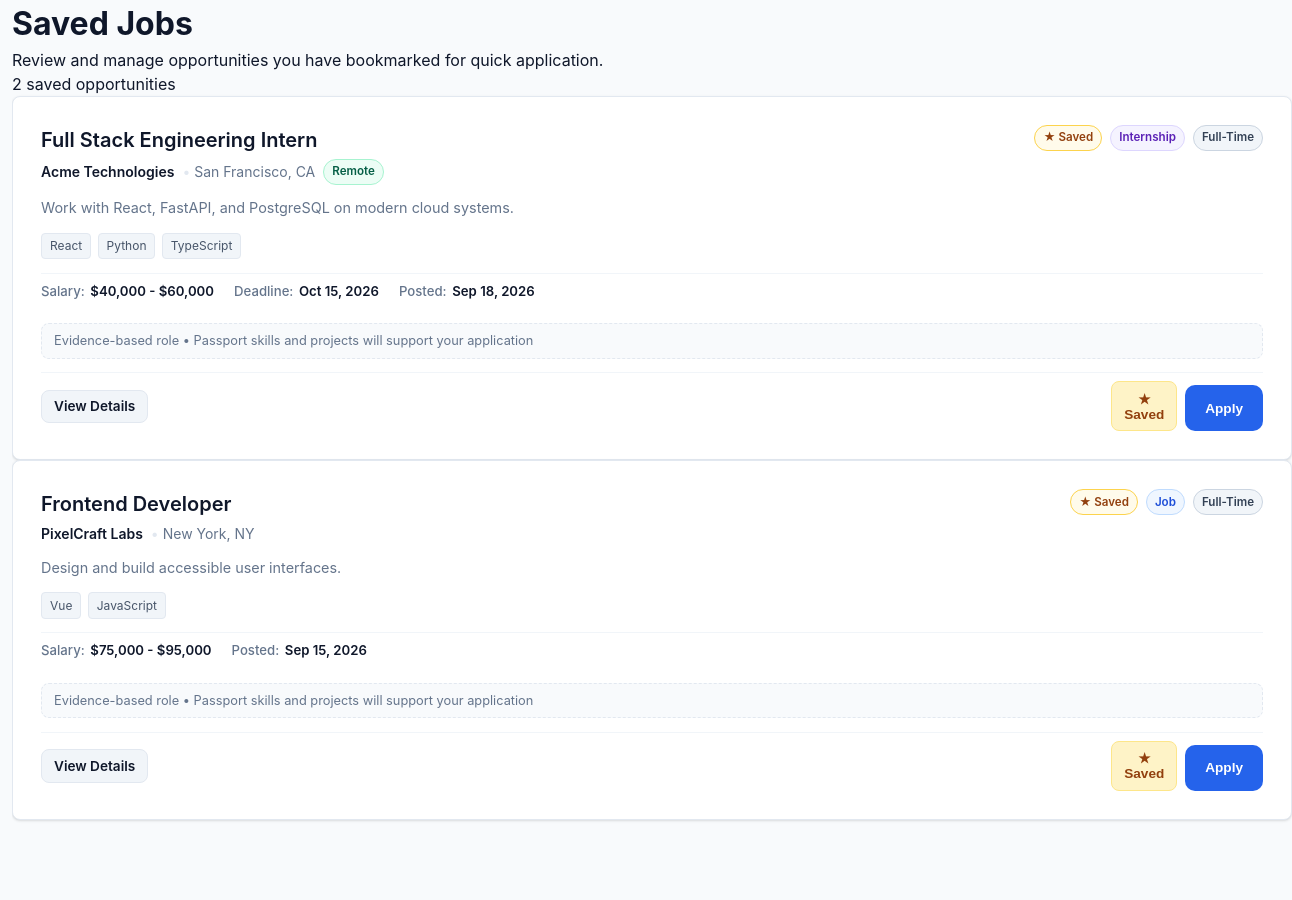
Test: SavedJobsPage (Phase 30B.2) › successfully unsaves a job, updates list and shows confirmation message
Expected: the link "Full Stack Engineering Intern" is shown, [41, 128, 318, 152]
Expected: the text with test id "saved-jobs-count" reads "2 saved opportunities", [12, 74, 176, 94]
Click Unsave button on first job
Click the button with test id "save-btn-101" at (1144, 406), box [1111, 381, 1177, 431]
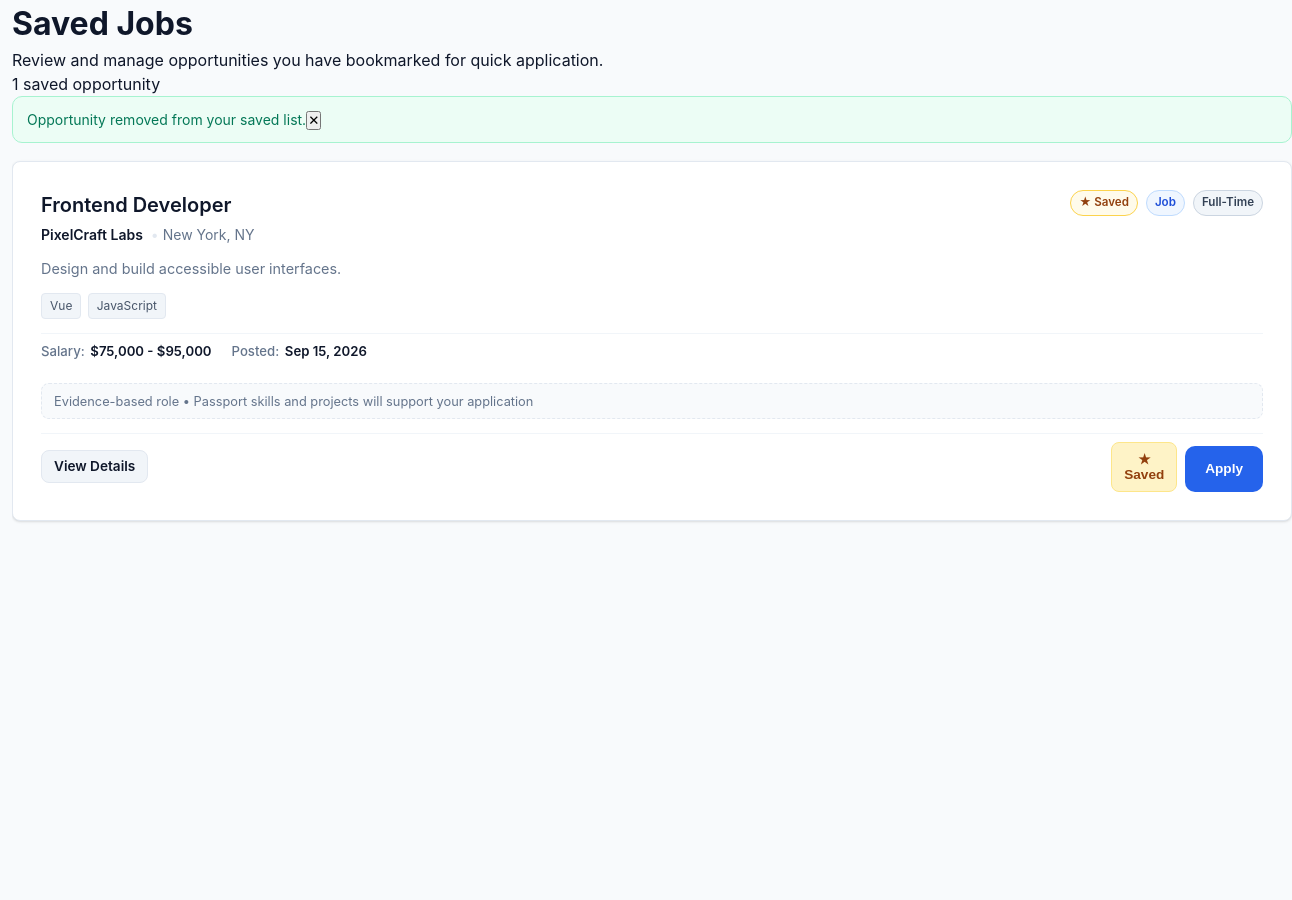
Now the link "Full Stack Engineering Intern" is gone
Now the text with test id "saved-jobs-count" reads "1 saved opportunity", box [12, 74, 160, 94]
Now the text "Opportunity removed from your saved list." is shown, box [27, 111, 306, 128]
